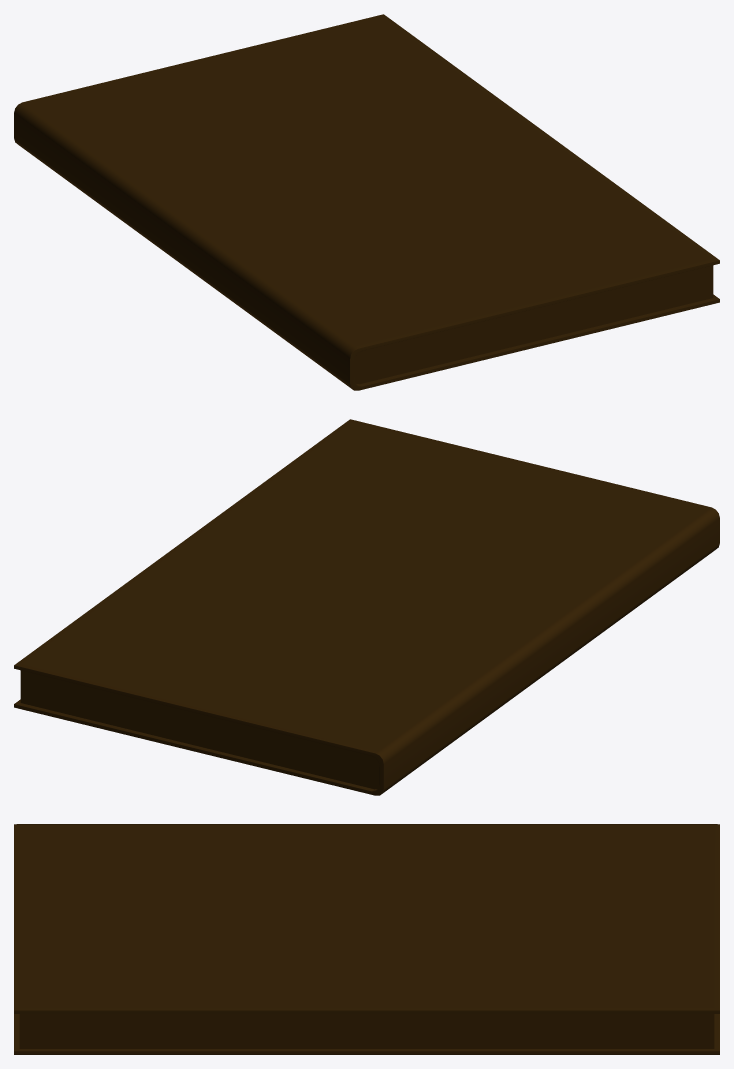
The model's file is book.fbx.
The picture shows the model from 3 angles, top to bottom: view 1: azimuth 30°, elevation 25°; view 2: azimuth 150°, elevation 25°; view 3: azimuth 270°, elevation 25°; orthographic projection. The views are drawn at different scales.
Parts seen in each view (by area): view 1: uploads_files_2619168_BOOK+FINAL; view 2: uploads_files_2619168_BOOK+FINAL; view 3: uploads_files_2619168_BOOK+FINAL.
Boxes of the visible parts, x1,y1,x2,y2 form: uploads_files_2619168_BOOK+FINAL: (14,14,719,390); uploads_files_2619168_BOOK+FINAL: (14,419,719,795); uploads_files_2619168_BOOK+FINAL: (14,824,719,1054).
Bounding box in the file's own units: 933 × 103 × 1468.
